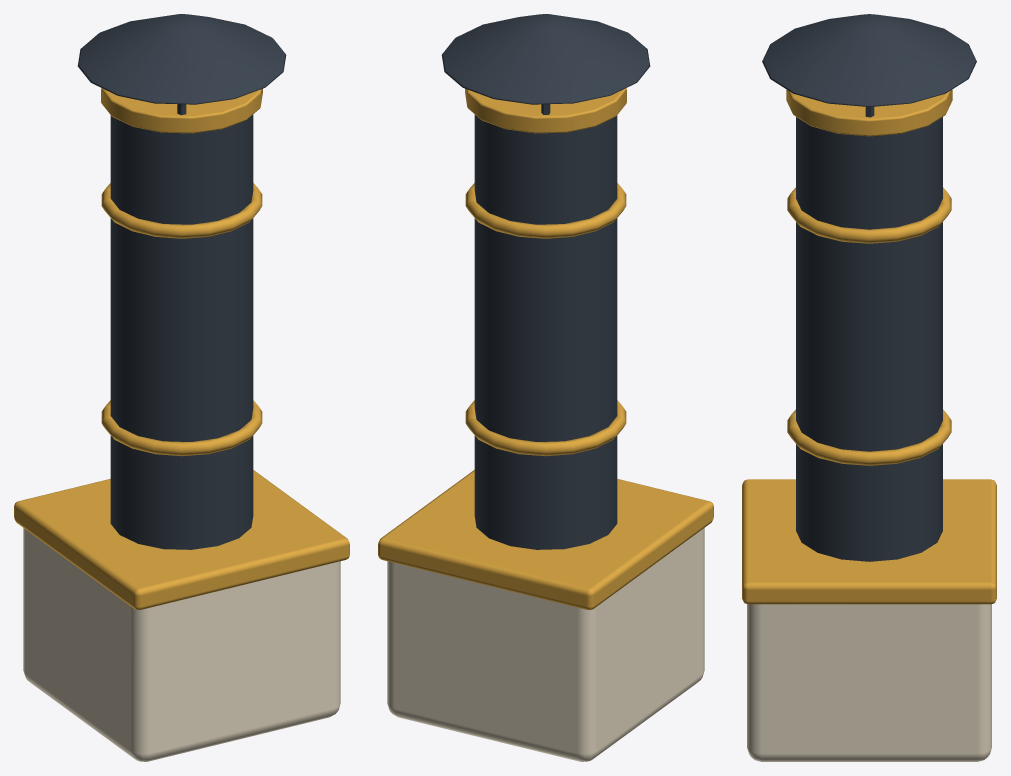
Rendered from chimney.glb.
3 renders of one model, left to right at view 1: azimuth 30°, elevation 25°; view 2: azimuth 150°, elevation 25°; view 3: azimuth 270°, elevation 25°, orthographic. The views are drawn at different scales.
Visible parts, largest first — view 1: chimney_body; view 2: chimney_body; view 3: chimney_body.
Boxes of the visible parts, x1,y1,x2,y2 form: chimney_body: (14, 14, 349, 761); chimney_body: (378, 14, 713, 761); chimney_body: (742, 14, 996, 761).
Bounding box in the file's own units: 1.04 × 3.12 × 1.04.
